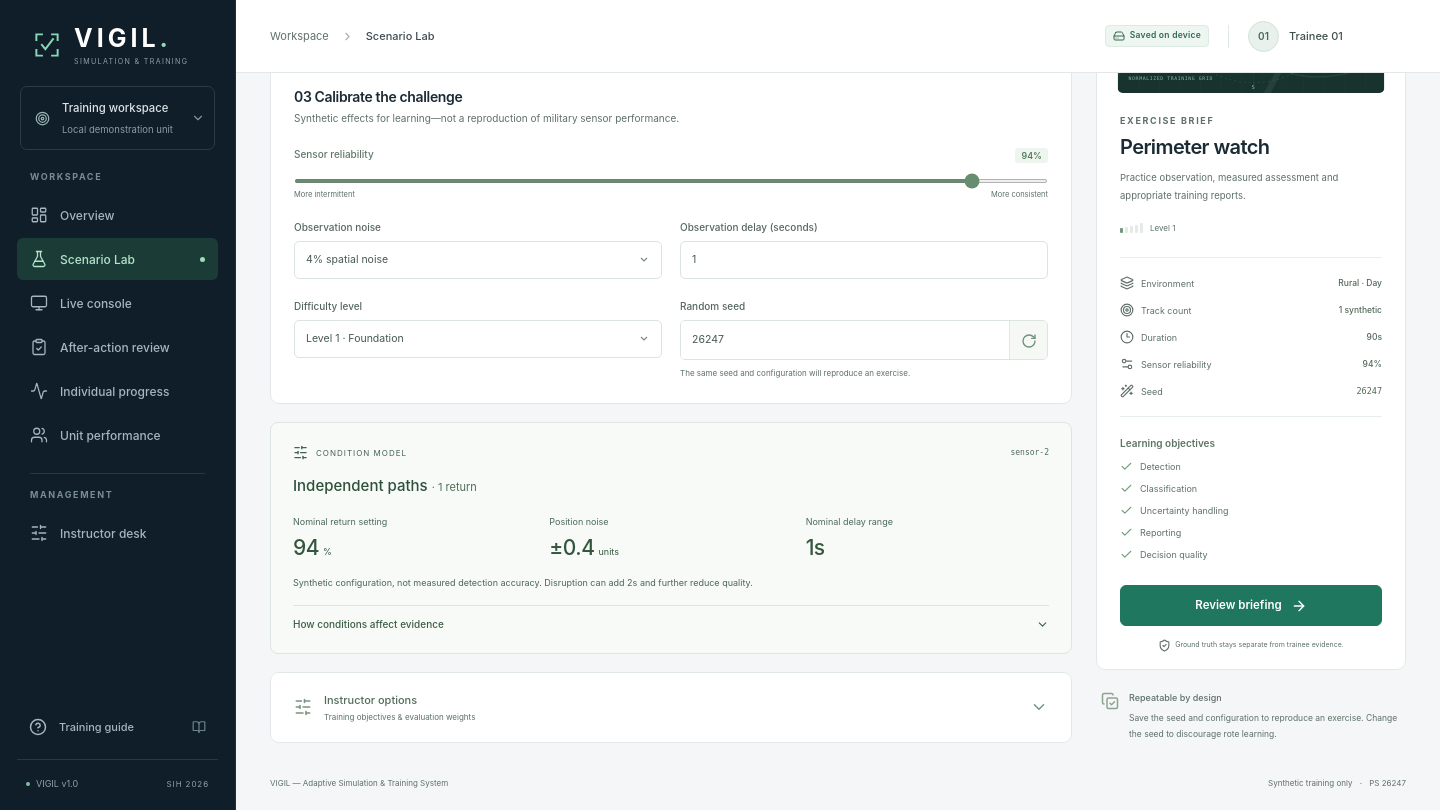
Test case: Phase 1 navigation and foundation › opens instructor options and validates the total weight
The width and height of the screenshot is (1440, 810).
(page scrolled)
Click the button "Instructor options Training objectives & evaluation weights". click: (371, 700)
box: [271, 673, 1071, 742]
(page scrolled)
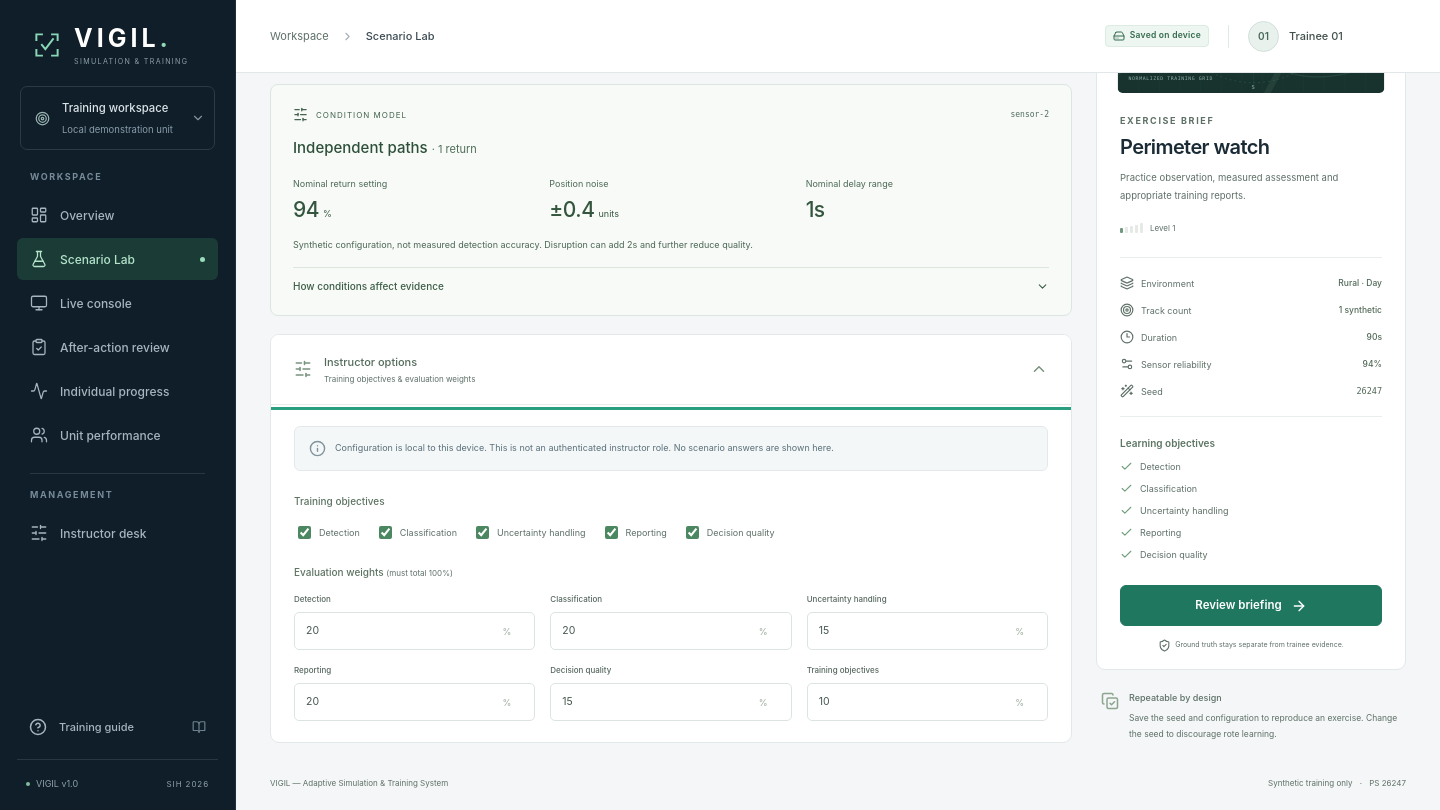
Clear the number field labelled "Detection". click: (415, 631)
box: [294, 612, 535, 650]
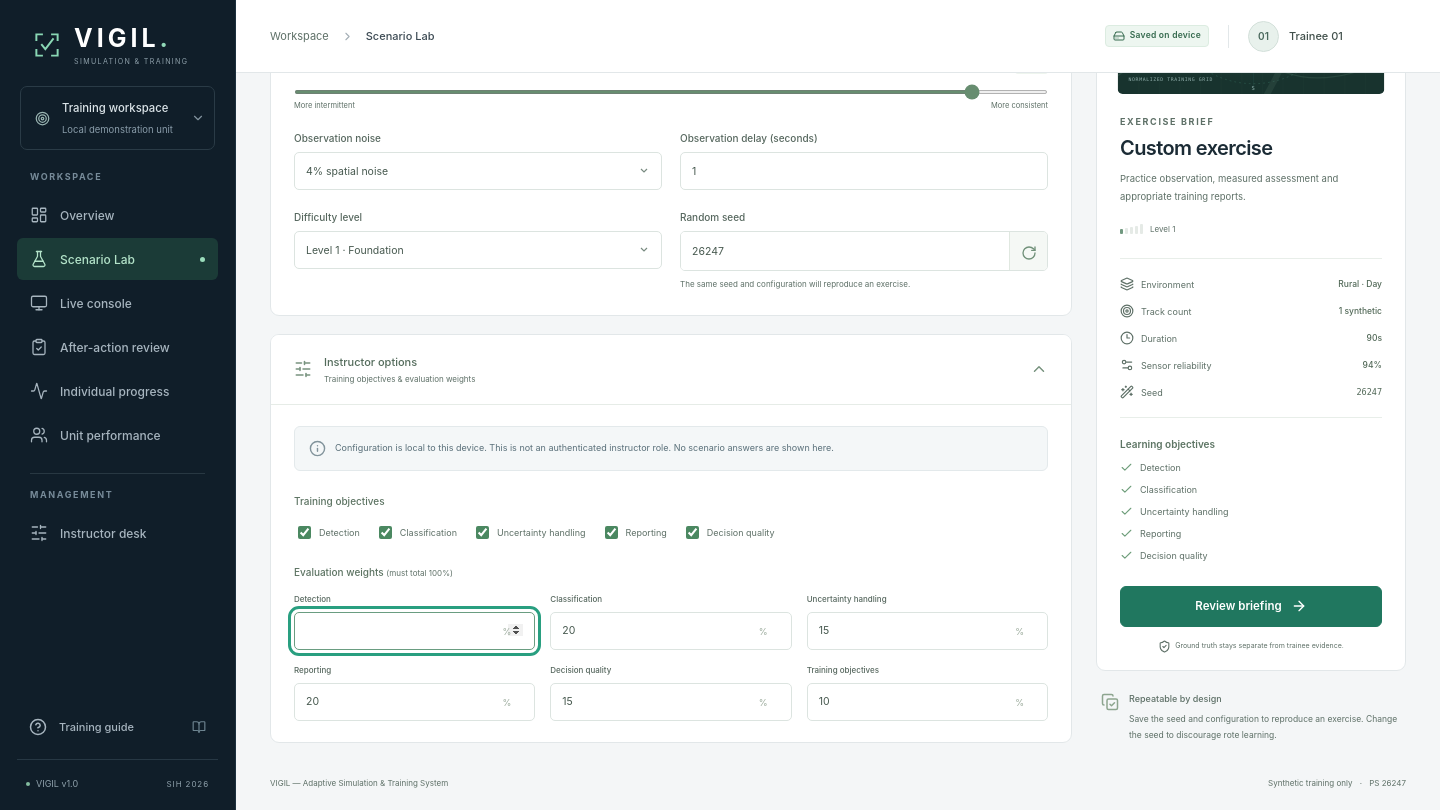
Type "30" into the number field labelled "Detection". click: (415, 631)
box: [294, 612, 535, 650]
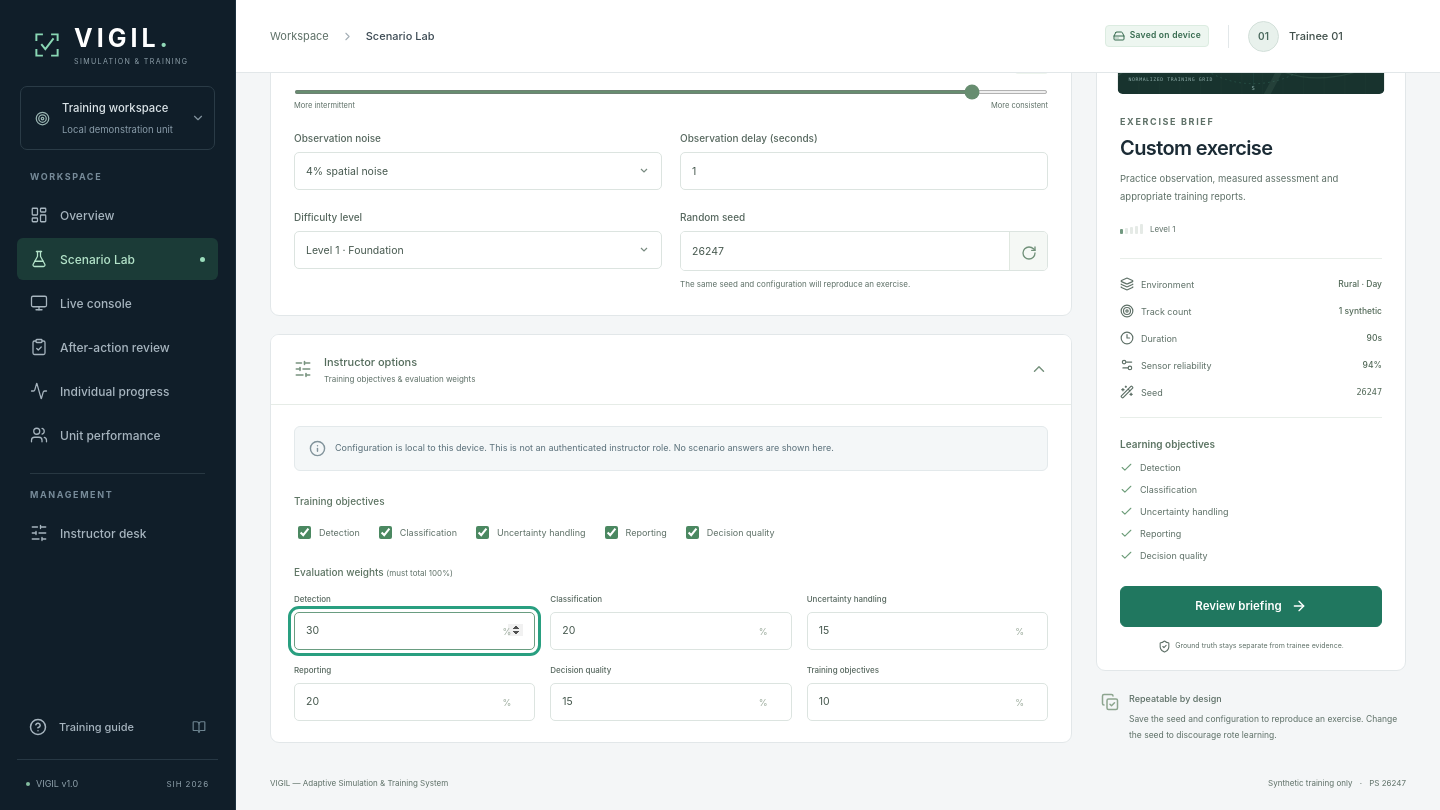
Click the button "Review briefing". click: (1251, 606)
box: [1120, 586, 1382, 627]
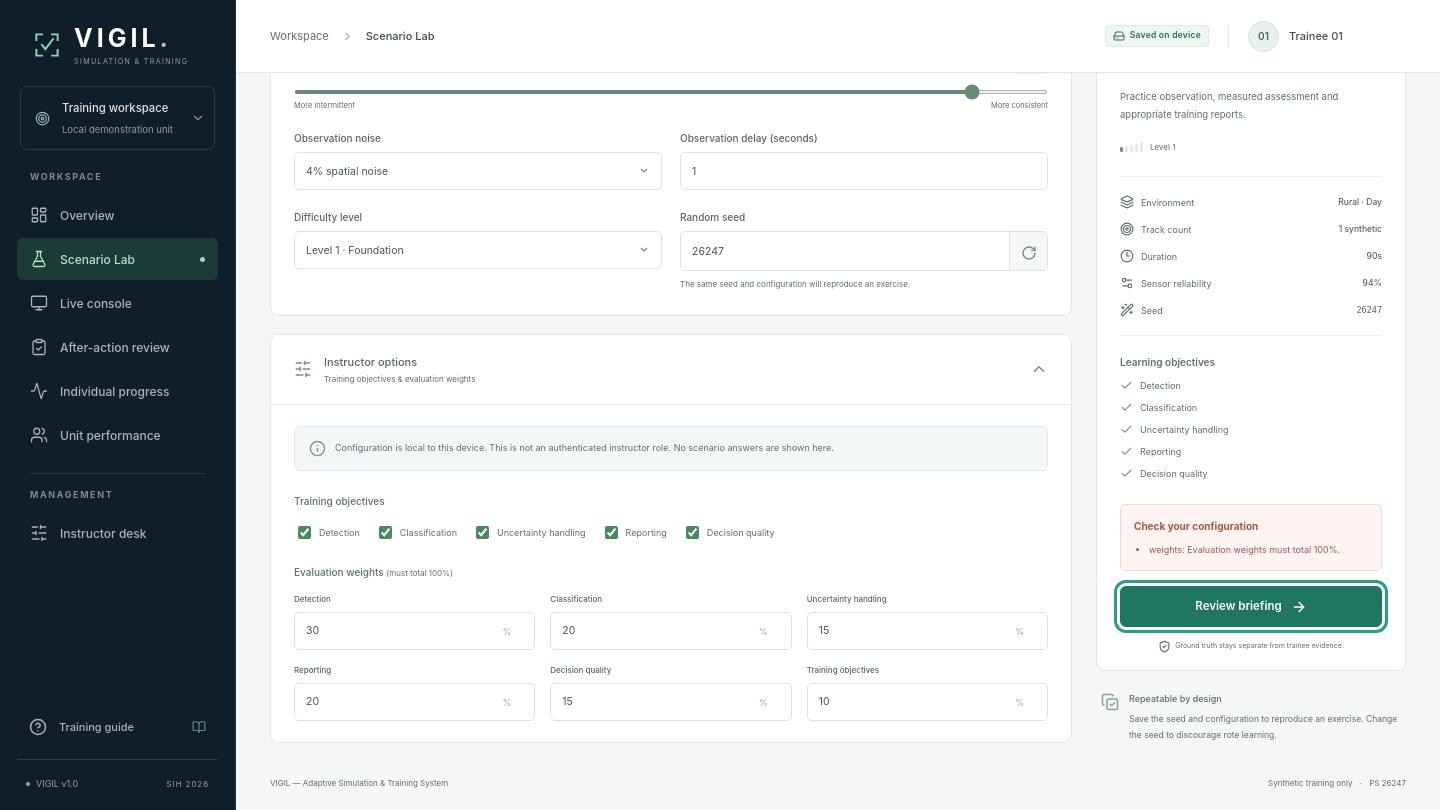
Expected: the message shows "must total 100%", [1149, 543, 1340, 554]
